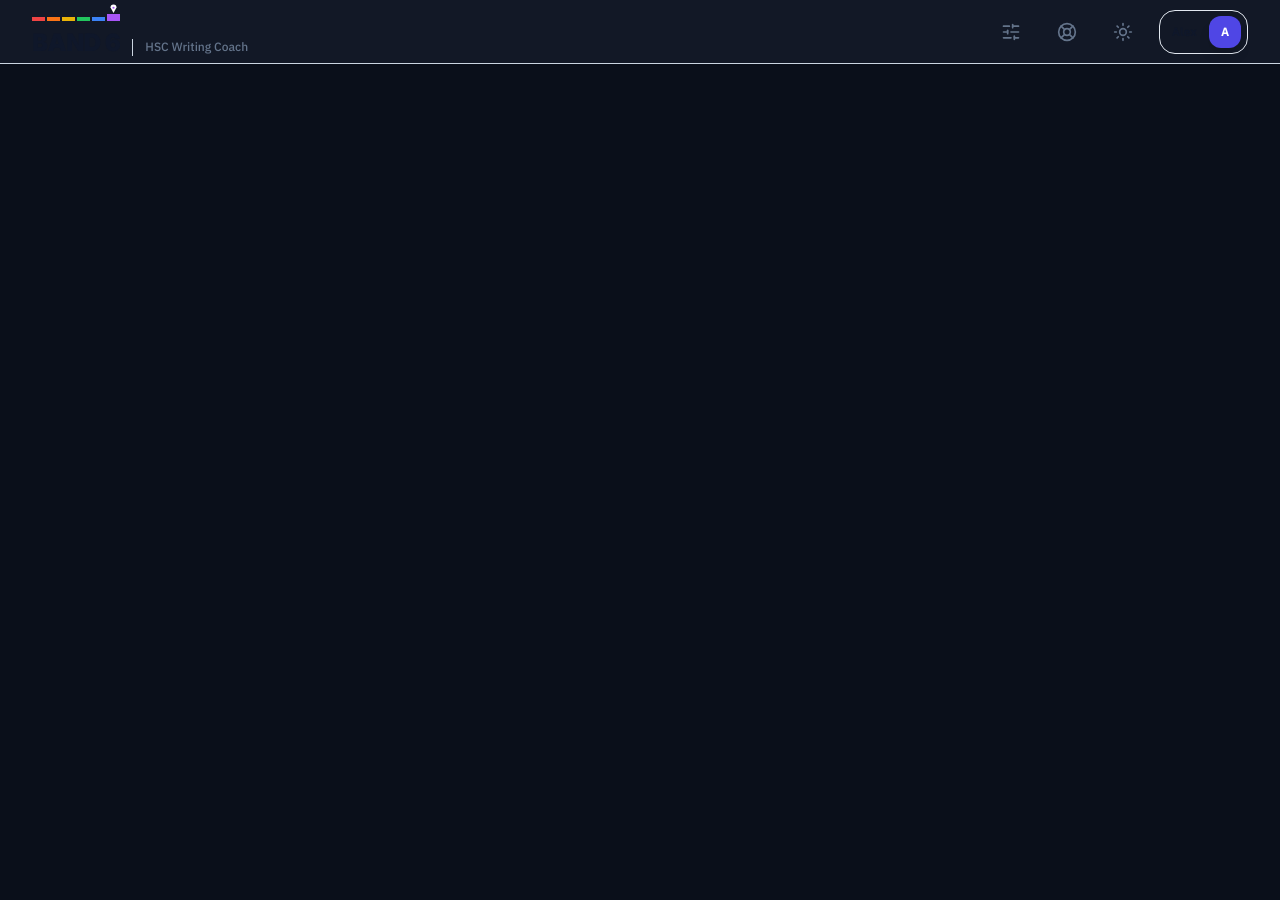
the admin tools stay behind the role gate › shows a teacher the moderation three and none of the system-admin six
What coordinates should you click on to do the following:
click the button named "Teaching tools"
I would click on:
 (1011, 32)
Its box is [991, 12, 1031, 52].
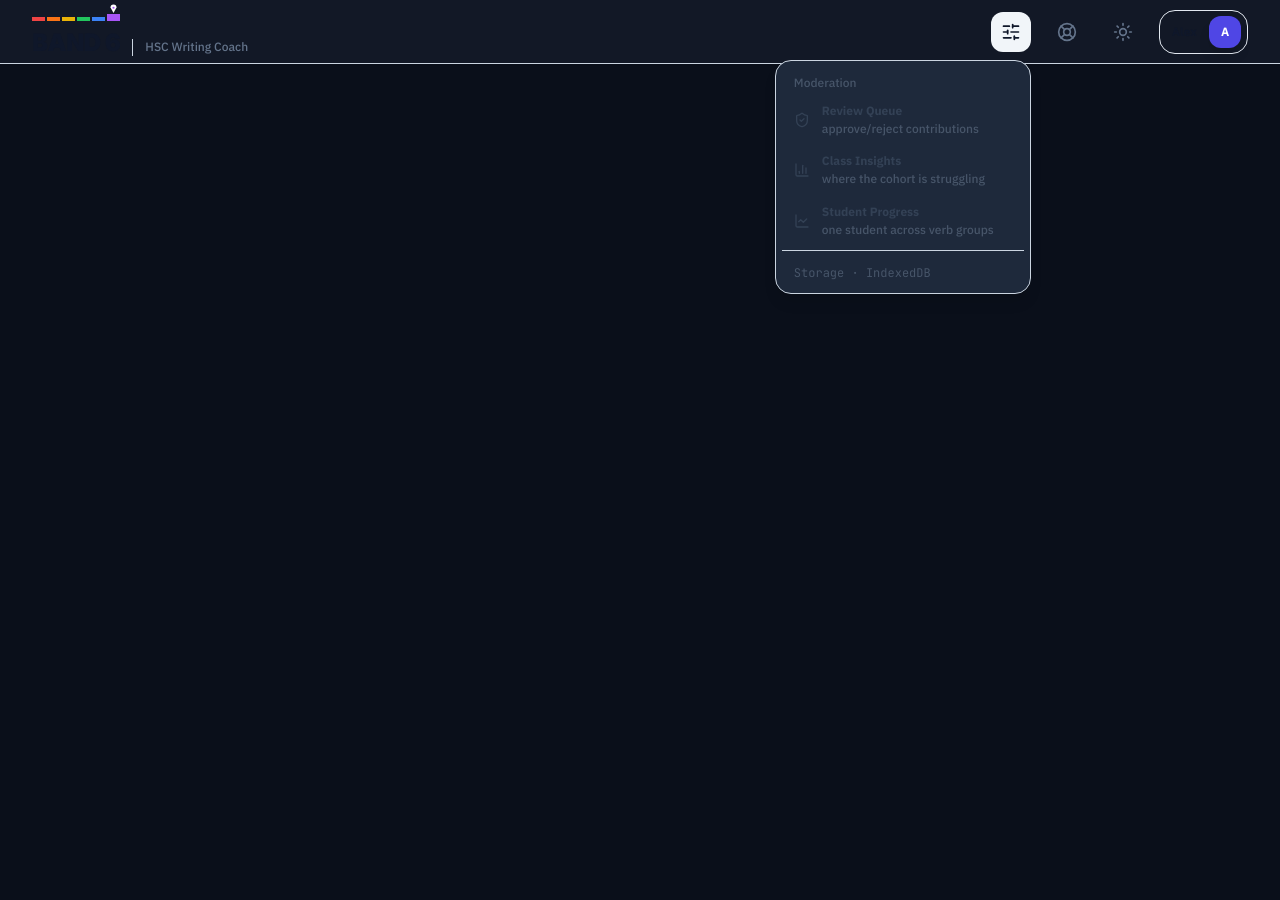
Expected: the button with aria-label "Review Queue (approve/reject contributions)" is shown, [782, 95, 1024, 145]
Expected: the button with aria-label "Class Insights (where the cohort is struggling)" is shown, [782, 145, 1024, 196]
Expected: the button with aria-label "Student Progress (one student across verb groups)" is shown, [782, 196, 1024, 246]
